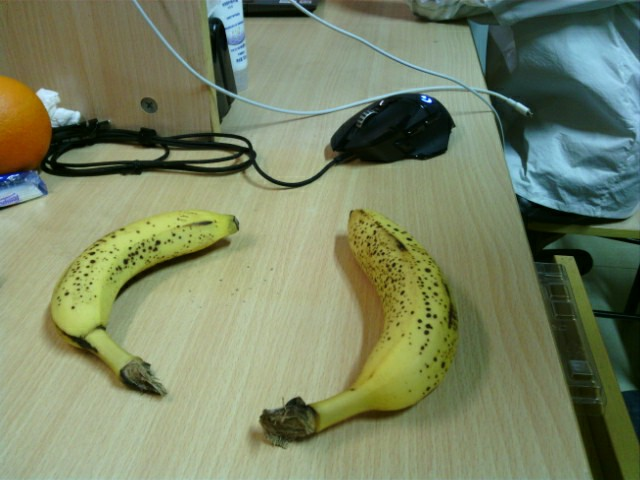normal_banana: (258, 210, 460, 446), (47, 209, 239, 400)
